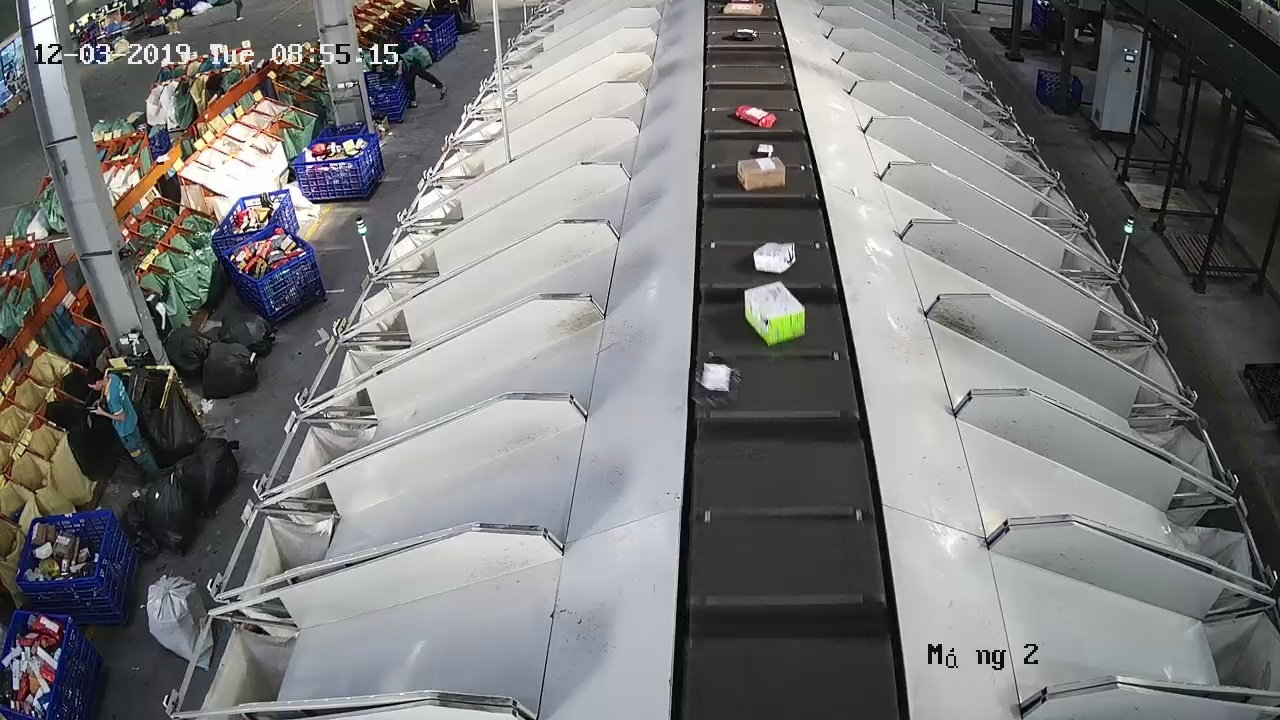parcel: (742, 279, 807, 348), (691, 361, 743, 408), (752, 240, 797, 275), (734, 104, 777, 130)
